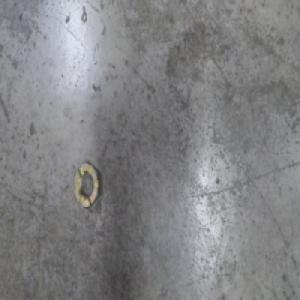Nut: (72, 160, 101, 208)
